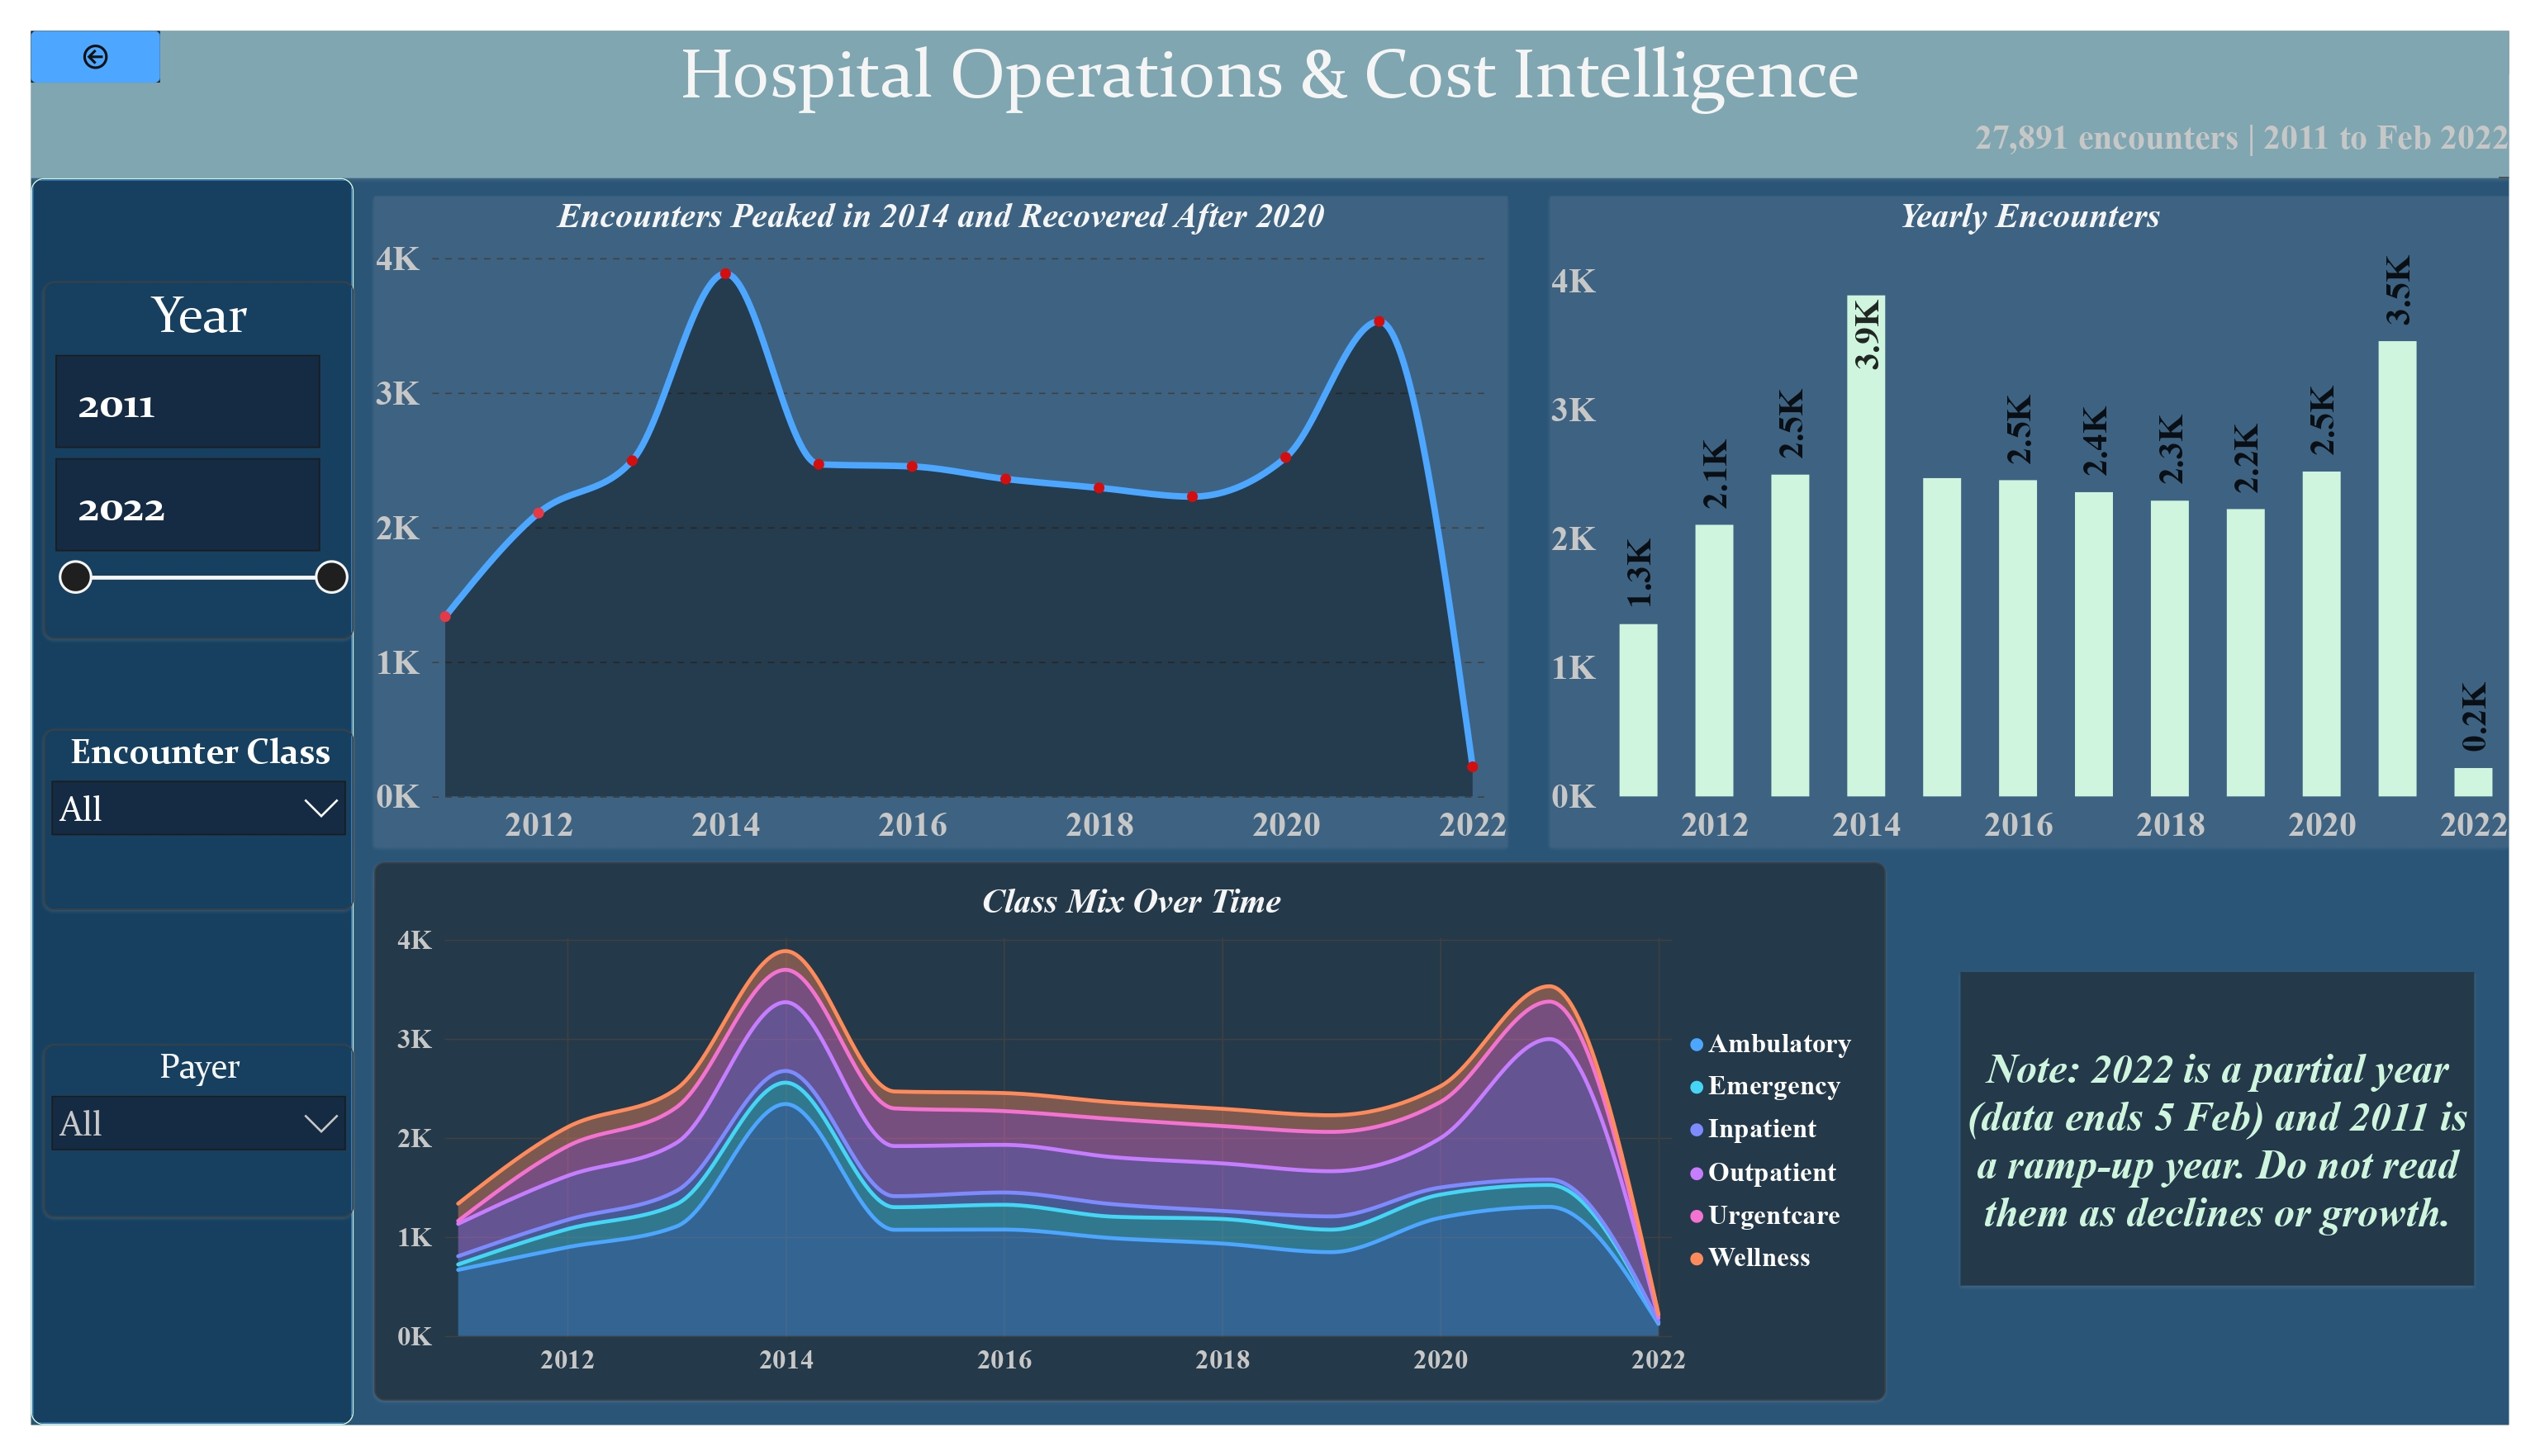

This screenshot's page, from the dashboard's own definition file:
{"tool":"powerbi","page":{"name":"Trend","canvas":[1920,1080],"ordinal":1},"visuals":[{"type":"textbox","title":"Hospital Operations & Cost Intelligence","box":[0,0,1920,113.5],"z":0},{"type":"shape","box":[0,113.5,249.8,966.2],"z":0,"group":"g1"},{"type":"group","id":"g1","title":"Group 1","box":[0,113.5,249.8,966.2],"z":1000},{"type":"slicer","title":"Year","fields":{"Values":["DimDate.Date.Variation.Date Hierarchy.Year"]},"box":[10.3,194.1,239.5,276.6],"z":2000},{"type":"slicer","title":"Encounter Class","fields":{"Values":["encounters.ENCOUNTERCLASS"]},"box":[10.3,540.9,239.5,140.4],"z":3000},{"type":"slicer","title":"Payer","fields":{"Values":["payers.Payer_Name"]},"box":[10.3,784.5,239.5,134.2],"z":4000},{"type":"lineChart","title":"Encounters Peaked in 2014 and Recovered After 2020","fields":{"Category":["DimDate.Date.Variation.Date Hierarchy.Year"],"Y":["DimDate.Total Encounters"]},"box":[266.3,128,877.4,503.7],"z":11000},{"type":"clusteredColumnChart","title":"Yearly Encounters","fields":{"Category":["DimDate.Date.Variation.Date Hierarchy.Year"],"Y":["DimDate.Total Encounters"]},"box":[1176.8,128,743.2,503.7],"z":12000},{"type":"actionButton","box":[0,0,100,40],"z":12001},{"type":"stackedAreaChart","title":"Class Mix Over Time","fields":{"Category":["DimDate.Date.Variation.Date Hierarchy.Year"],"Series":["encounters.ENCOUNTERCLASS"],"Y":["DimDate.Total Encounters"]},"box":[266.3,644.1,1170.6,417],"z":12002},{"type":"textbox","box":[1494.7,728.8,398.5,243.6],"z":12003}]}

Visuals, with their boxes on the page's 1920x1080 design canvas (x1, y1, x2, y2). These are canvas units, not pixel positions in the 2540x1456 screenshot, which may show the page scaled, cropped or inside an application window:
"Hospital Operations & Cost Intelligence" textbox: [0, 0, 1920, 114]
shape: [0, 114, 250, 1080]
"Group 1" group: [0, 114, 250, 1080]
"Year" slicer: [10, 194, 250, 471]
"Encounter Class" slicer: [10, 541, 250, 681]
"Payer" slicer: [10, 784, 250, 919]
"Encounters Peaked in 2014 and Recovered After 2020" lineChart: [266, 128, 1144, 632]
"Yearly Encounters" clusteredColumnChart: [1177, 128, 1920, 632]
actionButton: [0, 0, 100, 40]
"Class Mix Over Time" stackedAreaChart: [266, 644, 1437, 1061]
textbox: [1495, 729, 1893, 972]
